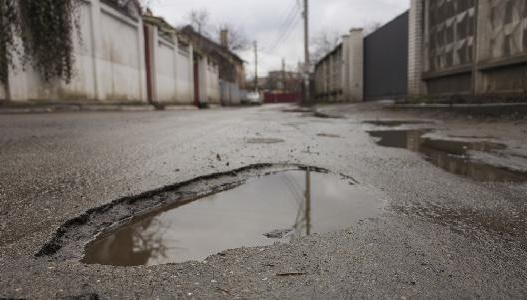pothole: (35, 159, 388, 269)
